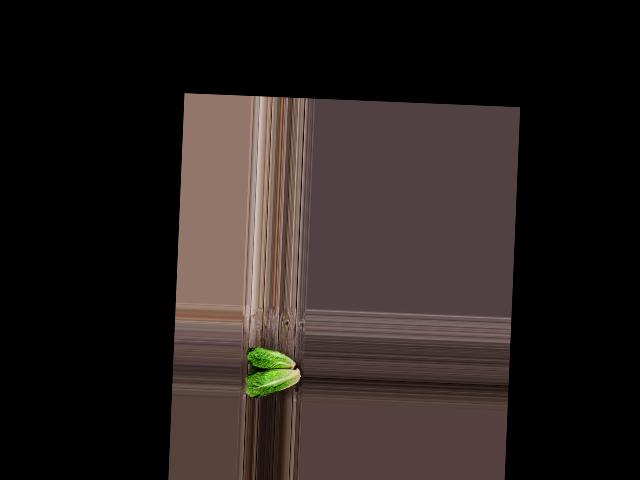lettuce: (242, 366, 303, 401)
